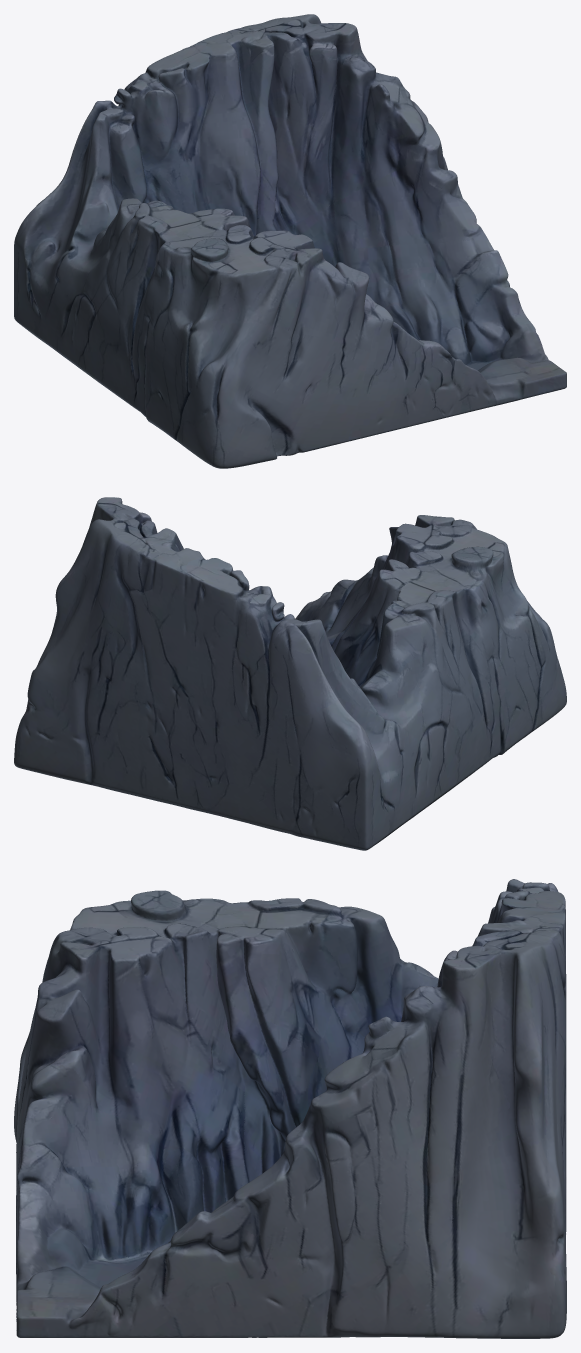
The picture shows the model from 3 angles, top to bottom: view 1: azimuth 30°, elevation 25°; view 2: azimuth 150°, elevation 25°; view 3: azimuth 270°, elevation 25°; orthographic projection. The views are drawn at different scales.
Parts seen in each view (by area): view 1: tripo_node_90fd6a75-2a94-4bfc-8451-cb4107550388; view 2: tripo_node_90fd6a75-2a94-4bfc-8451-cb4107550388; view 3: tripo_node_90fd6a75-2a94-4bfc-8451-cb4107550388.
Boxes of the visible parts, x1,y1,x2,y2 form: tripo_node_90fd6a75-2a94-4bfc-8451-cb4107550388: [14, 14, 566, 468]; tripo_node_90fd6a75-2a94-4bfc-8451-cb4107550388: [14, 497, 566, 850]; tripo_node_90fd6a75-2a94-4bfc-8451-cb4107550388: [14, 879, 566, 1338].
Size of the model in its own units: 1 by 0.6785 by 0.9984.
1 material, 1 textured.
